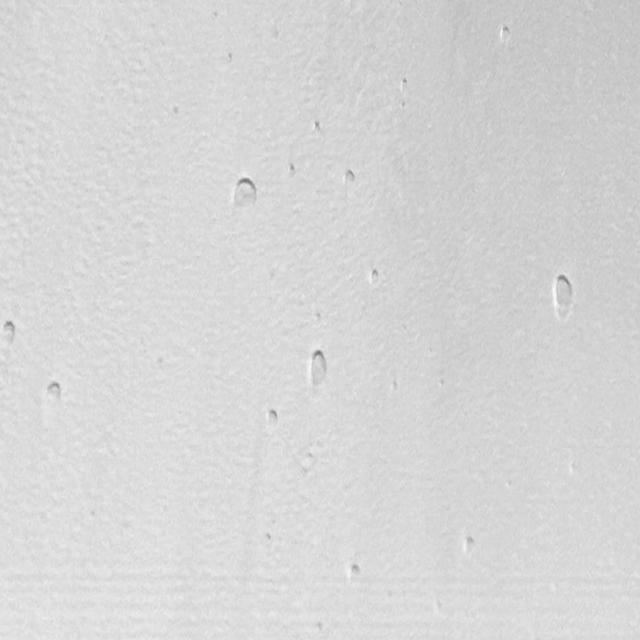pin holes: (548, 270, 580, 322), (228, 174, 261, 215), (305, 348, 333, 393), (39, 379, 64, 411), (457, 534, 479, 560), (0, 318, 18, 349), (342, 562, 364, 587), (494, 22, 515, 46), (299, 449, 318, 472), (261, 407, 279, 431), (365, 266, 382, 290), (339, 168, 357, 188), (308, 119, 324, 137), (284, 161, 298, 180), (398, 77, 410, 94), (312, 311, 324, 328), (166, 102, 180, 116), (388, 378, 400, 394), (264, 530, 272, 550)
